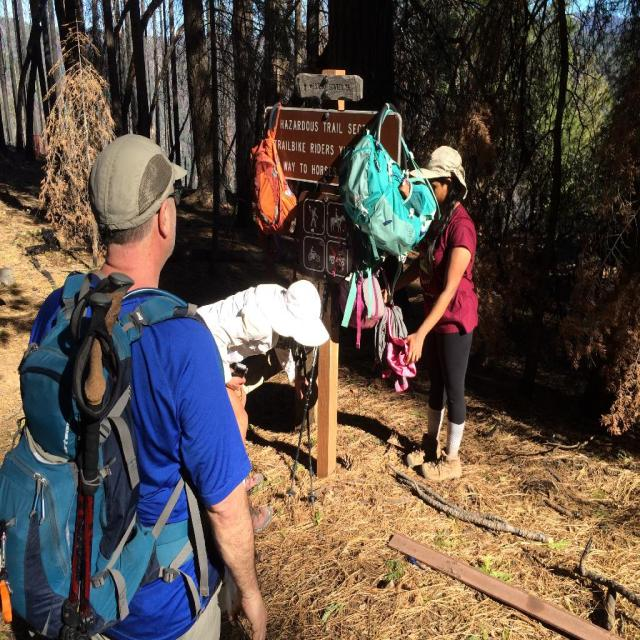backpack: (3, 272, 221, 639), (334, 104, 432, 258), (236, 99, 293, 236), (334, 256, 388, 338)
